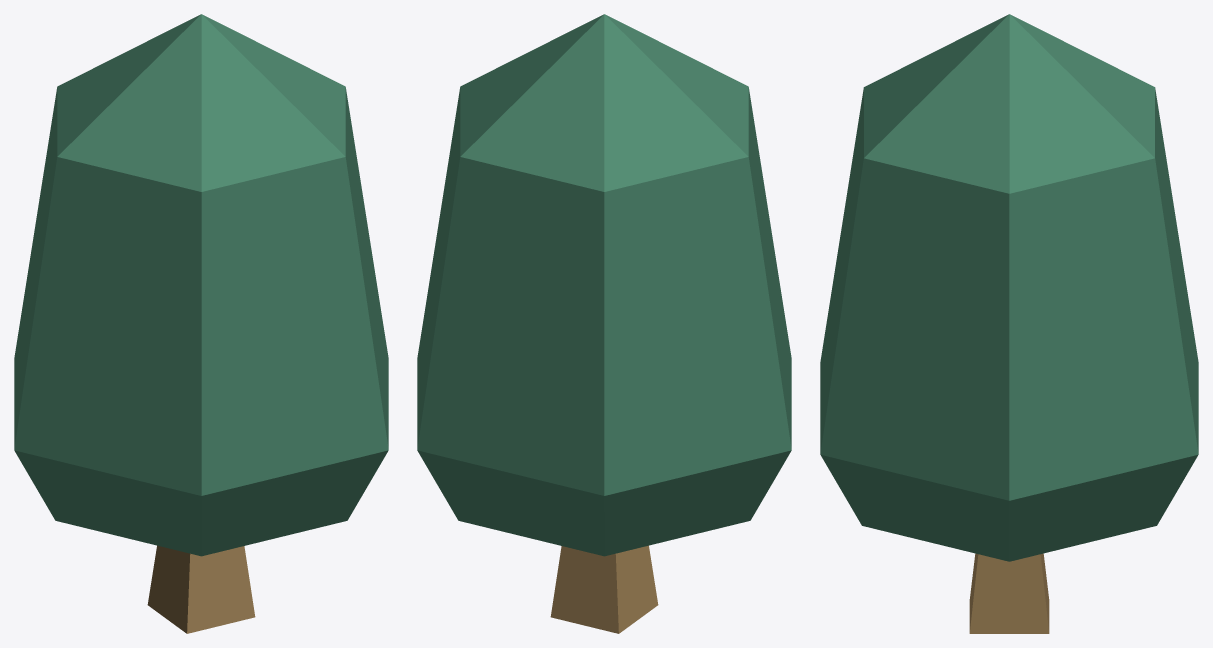
The model's file is Large_Oak_Green_01.obj.
3 views of the same model, side by side, from view 1: azimuth 30°, elevation 25°; view 2: azimuth 150°, elevation 25°; view 3: azimuth 270°, elevation 25° (orthographic).
Visible parts, largest first — view 1: Mesh1_Large_Oak_Green_Model; view 2: Mesh1_Large_Oak_Green_Model; view 3: Mesh1_Large_Oak_Green_Model.
Boxes of the visible parts, x1,y1,x2,y2 form: Mesh1_Large_Oak_Green_Model: [14, 14, 388, 633]; Mesh1_Large_Oak_Green_Model: [417, 14, 791, 633]; Mesh1_Large_Oak_Green_Model: [820, 14, 1198, 633].
Size of the model in its own units: 3.02 by 4.6 by 2.62.
